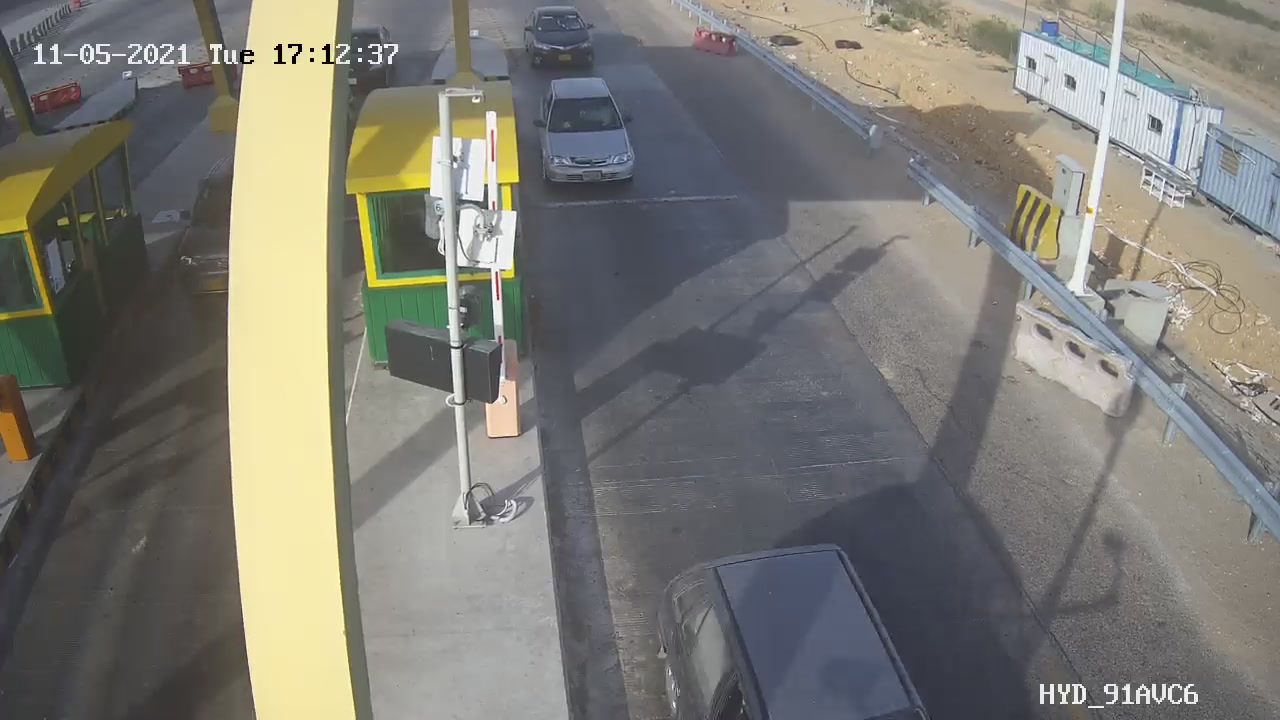F1: (521, 66, 648, 201)
